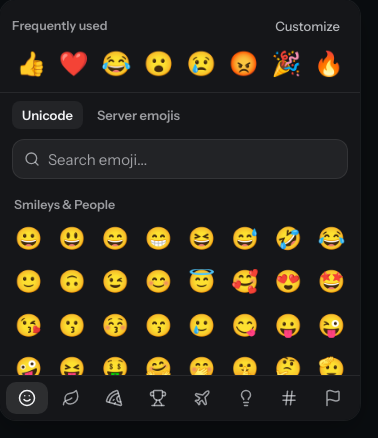
Scenario: EmojiPicker server emojis › refreshes server emojis after a matching gateway emoji-change event
Click the button "Server emojis" at (138, 115), box [87,101,190,129]
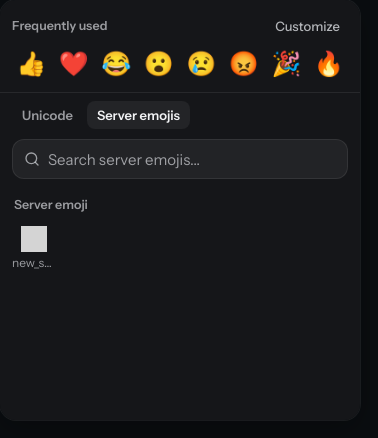
Now the button "new_static" is shown, box [8,220,60,276]
